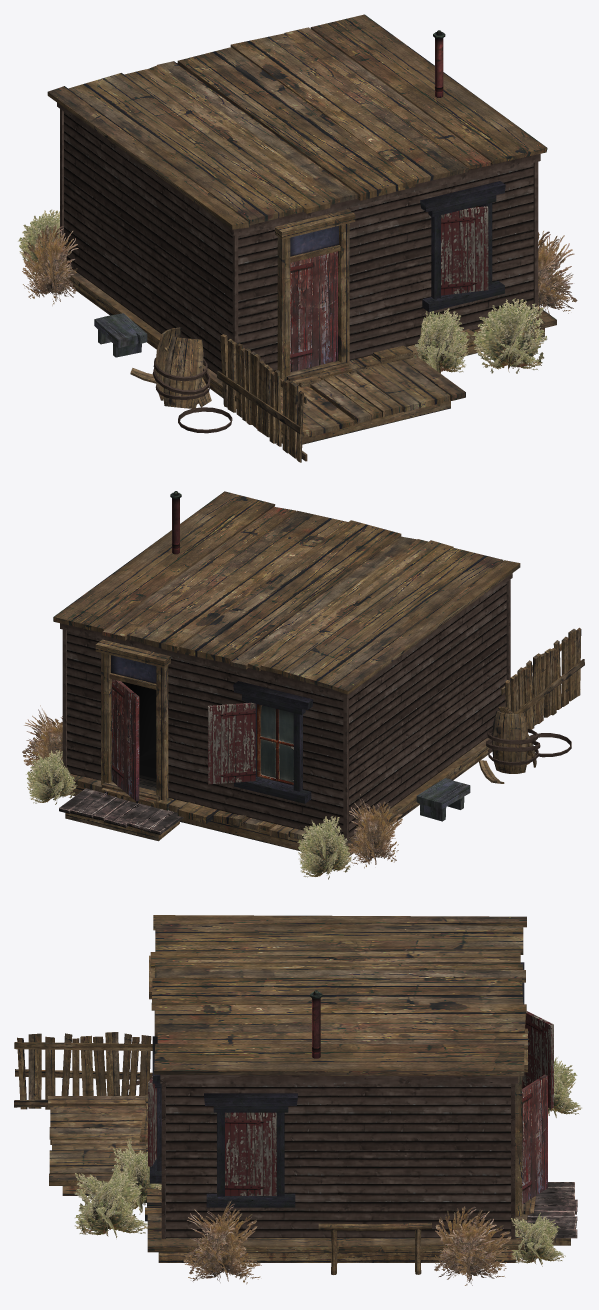
3 views of the same model, one above another, from view 1: azimuth 30°, elevation 25°; view 2: azimuth 150°, elevation 25°; view 3: azimuth 270°, elevation 25° (orthographic). The views are drawn at different scales.
Visible parts, largest first — view 1: House 1; view 2: House 1; view 3: House 1.
Part boxes in pixels (box(x1,y1,x2,y2)): House 1: box(18, 14, 577, 462); House 1: box(22, 491, 584, 879); House 1: box(14, 915, 581, 1285).
Size of what is drawn, in the model's own units: 8.58 by 4.95 by 9.79.
2 materials, 2 textured.
